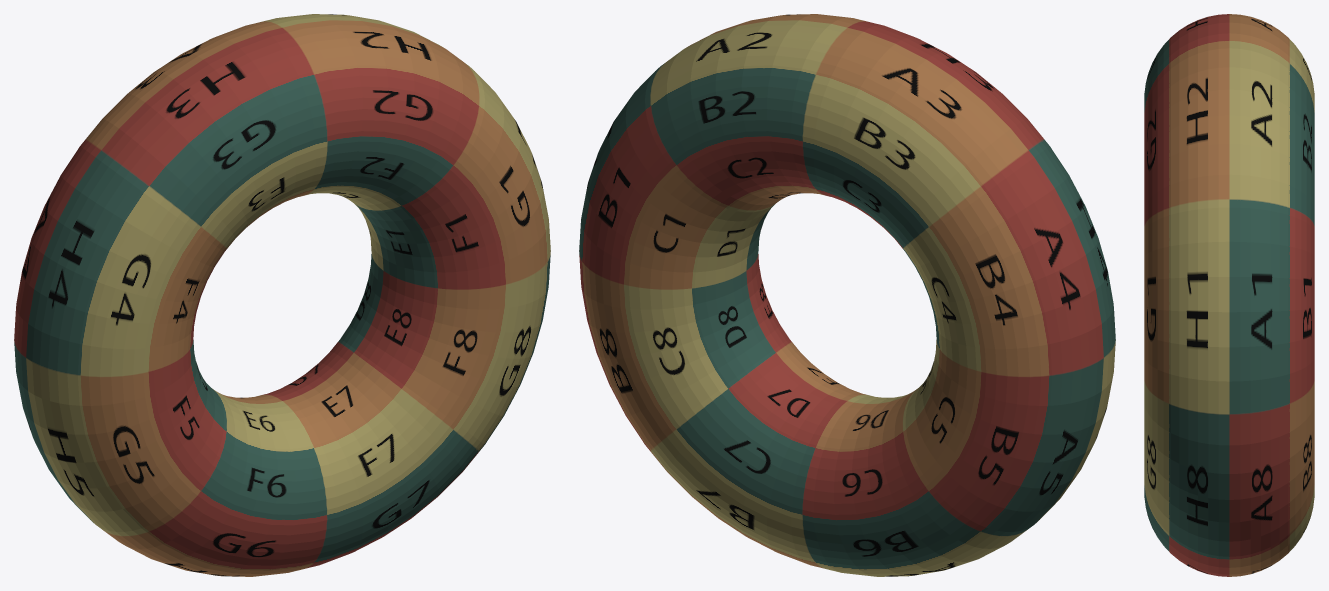
Rendered from texture_torus_R14_r24.glb.
3 views of the same model, side by side, from view 1: azimuth 30°, elevation 25°; view 2: azimuth 150°, elevation 25°; view 3: azimuth 270°, elevation 25° (orthographic). The views are drawn at different scales.
Visible parts, largest first — view 1: world; view 2: world; view 3: world.
Boxes of the visible parts, x1=… form: world: x1=14, y1=14, x2=550, y2=576; world: x1=579, y1=14, x2=1115, y2=576; world: x1=1144, y1=14, x2=1314, y2=576.
Size of the model in its own units: 27.73 by 27.68 by 8.38.
1 material, 1 textured.
